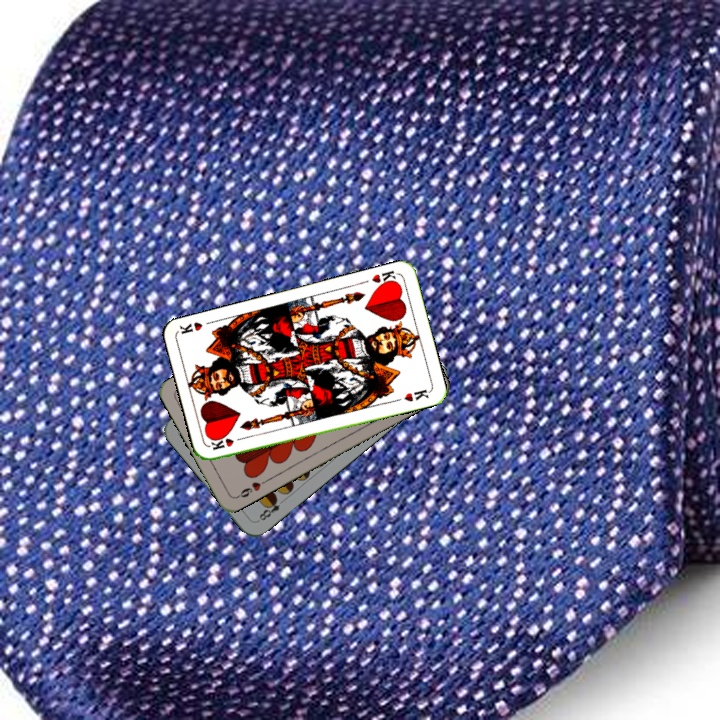E8: (253, 493, 288, 524)
H9: (232, 476, 270, 501)
HK: (207, 433, 247, 453), (368, 266, 400, 290)
